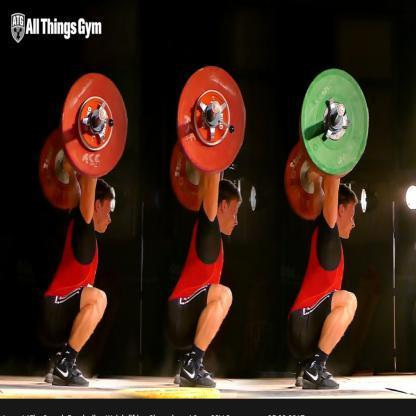barbell: (286, 68, 370, 218), (40, 71, 128, 206), (171, 68, 242, 211)
